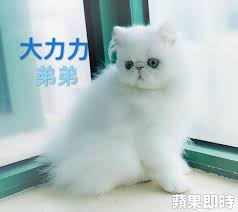cat: (103, 22, 192, 94)
